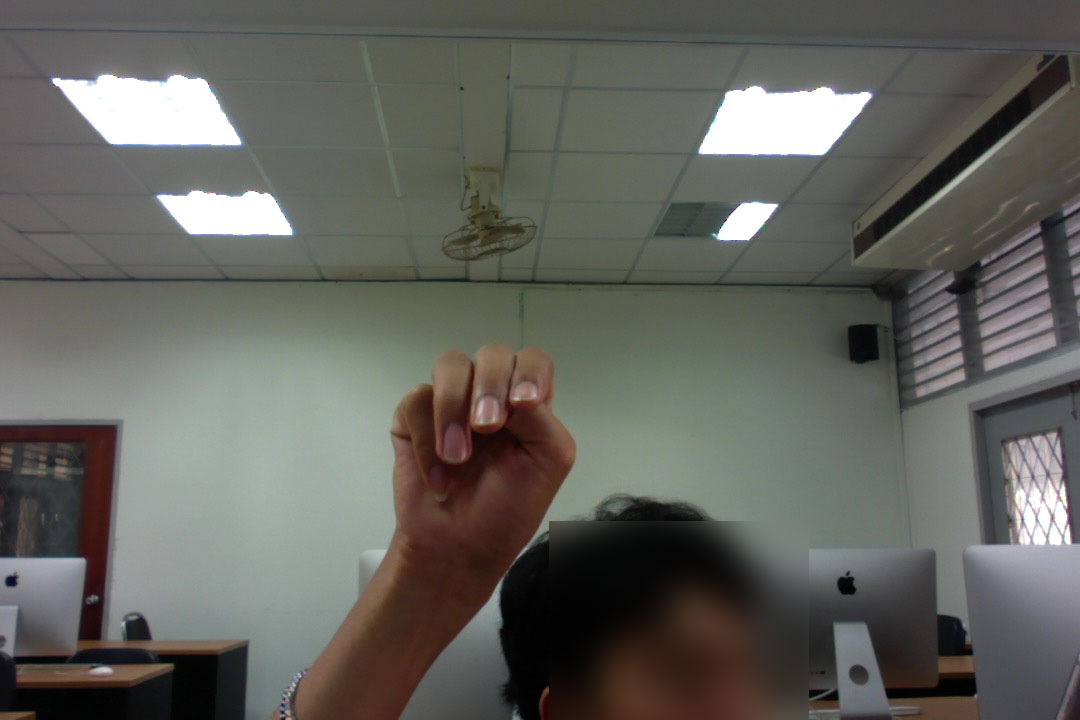mor: (380, 332, 580, 590)
